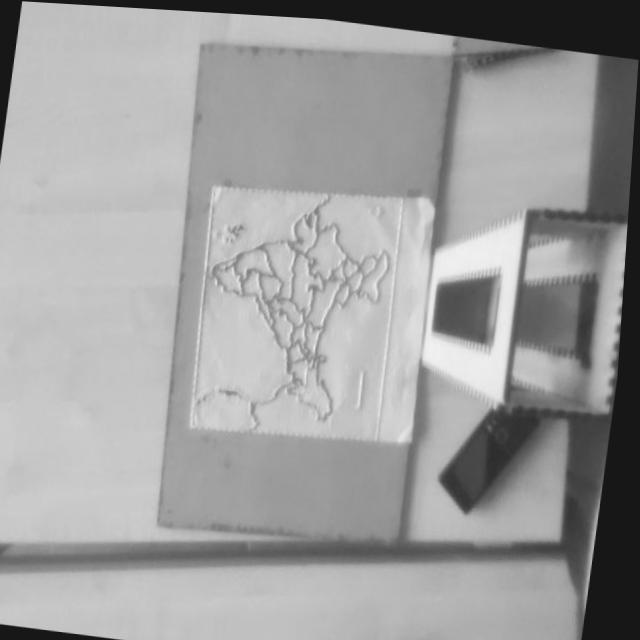map: (187, 178, 403, 447)
